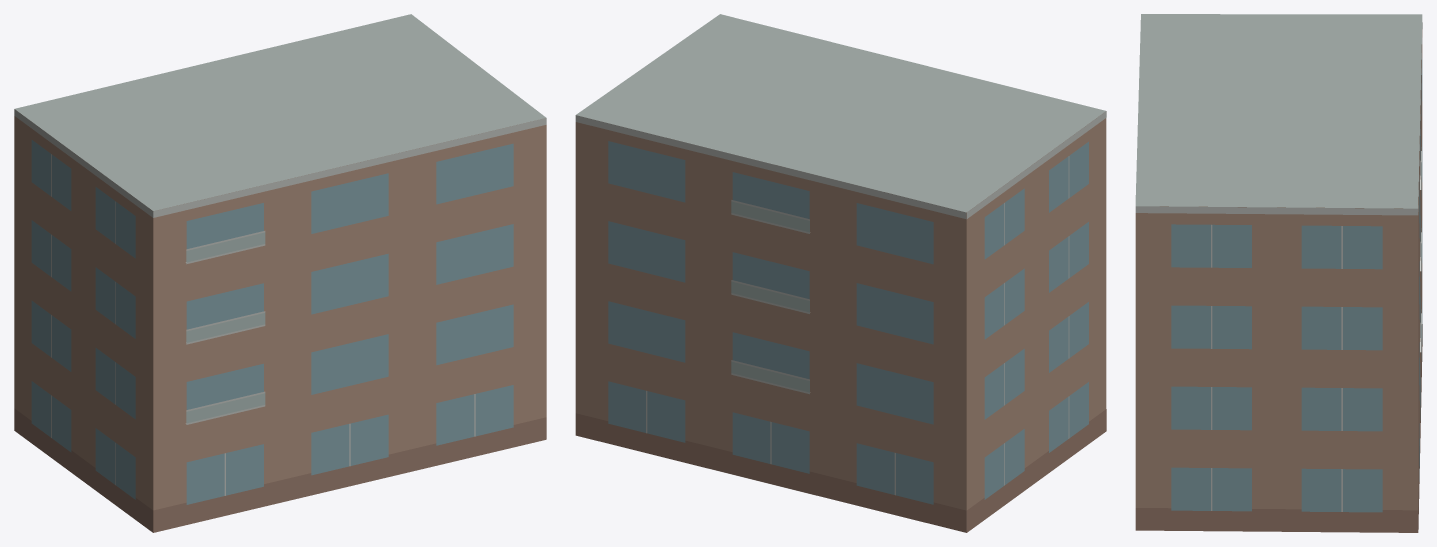
Rendered from survey-upis-32629504.glb.
The picture shows the model from 3 angles, left to right: view 1: azimuth 30°, elevation 25°; view 2: azimuth 150°, elevation 25°; view 3: azimuth 270°, elevation 25°; orthographic projection.
Parts seen in each view (by area): view 1: survey-upis-32629504.tmp; view 2: survey-upis-32629504.tmp; view 3: survey-upis-32629504.tmp.
Part boxes in pixels (x1,y1,x2,y2): survey-upis-32629504.tmp: (14, 14, 546, 532); survey-upis-32629504.tmp: (575, 14, 1106, 532); survey-upis-32629504.tmp: (1135, 14, 1422, 532).
Bounding box in the file's own units: 14.81 × 11.5 × 9.24.
